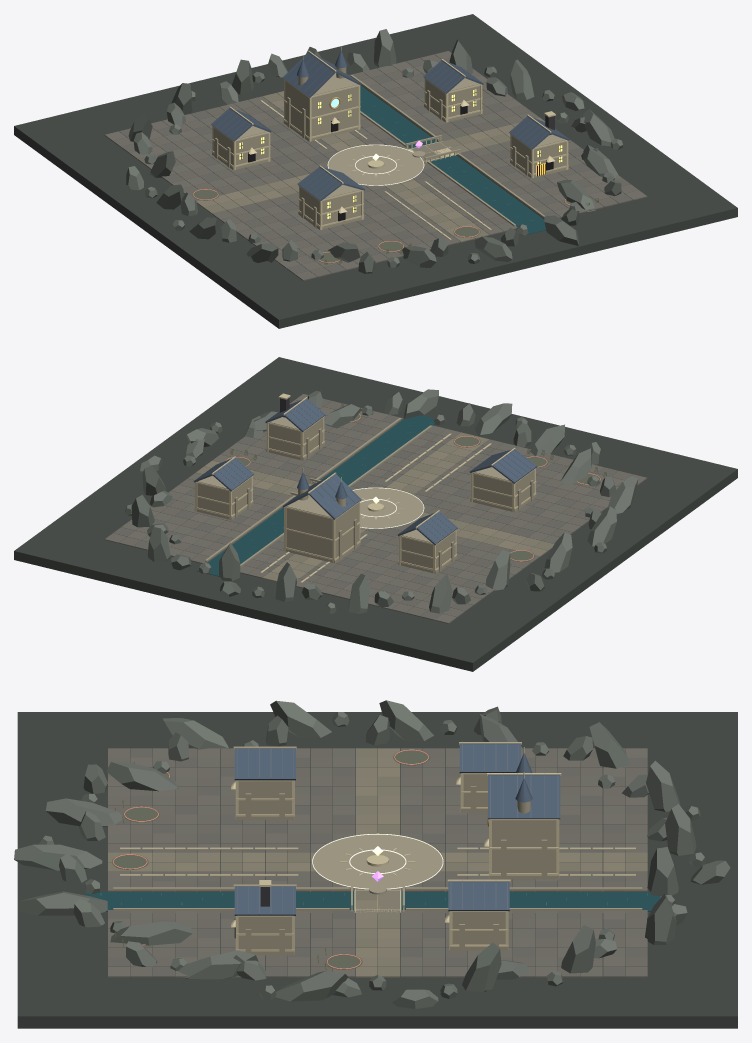
Rendered from dawnveil.glb.
The picture shows the model from 3 angles, top to bottom: view 1: azimuth 30°, elevation 25°; view 2: azimuth 150°, elevation 25°; view 3: azimuth 270°, elevation 25°; orthographic projection. The views are drawn at different scales.
Visible parts, largest first — view 1: Terrain_and_paths_surface (×11), Outskirts_scenery_surface, temple_0_surface (×3), Canal_and_bridge_surface (×2), house_2_surface (×3), house_3_surface (×3), house_1_surface (×3), forge_4_surface (×3), Sanctuary_surface, Monster_farming_clearings_surface; view 2: Terrain_and_paths_surface (×12), Outskirts_scenery_surface, temple_0_surface (×3), Canal_and_bridge_surface (×2), house_2_surface (×3), forge_4_surface (×3), house_3_surface (×3), house_1_surface (×3), Sanctuary_surface, Monster_farming_clearings_surface; view 3: Terrain_and_paths_surface (×12), Outskirts_scenery_surface, Canal_and_bridge_surface (×2), temple_0_surface (×3), Sanctuary_surface (×2), house_2_surface (×3), forge_4_surface (×3), house_3_surface (×3), house_1_surface (×2), Monster_farming_clearings_surface.
Part boxes in pixels (x1,y1,x2,y2): Terrain_and_paths_surface (×11): (14,14,737,328); Outskirts_scenery_surface: (126,29,622,273); temple_0_surface (×3): (282,46,361,141); Canal_and_bridge_surface (×2): (350,75,545,234); house_2_surface (×3): (297,165,364,229); house_3_surface (×3): (423,59,483,122); house_1_surface (×3): (211,106,271,170); forge_4_surface (×3): (509,111,569,178); Sanctuary_surface: (328,145,423,185); Monster_farming_clearings_surface: (192,189,571,263); Terrain_and_paths_surface (×12): (14,357,737,671); Outskirts_scenery_surface: (125,389,638,626); temple_0_surface (×3): (282,468,361,563); Canal_and_bridge_surface (×2): (197,415,435,576); house_2_surface (×3): (469,448,537,512); forge_4_surface (×3): (265,393,325,460); house_3_surface (×3): (193,456,253,519); house_1_surface (×3): (397,510,457,573); Sanctuary_surface: (353,488,423,528); Monster_farming_clearings_surface: (225,413,601,561); Terrain_and_paths_surface (×12): (17,712,737,1028); Outskirts_scenery_surface: (14,700,730,1008); Canal_and_bridge_surface (×2): (85,881,660,912); temple_0_surface (×3): (484,747,561,879); Sanctuary_surface (×2): (312,833,443,889); house_2_surface (×3): (231,746,296,820); forge_4_surface (×3): (231,880,296,955); house_3_surface (×3): (445,879,510,950); house_1_surface (×2): (459,743,520,813); Monster_farming_clearings_surface: (111,749,429,969).
Size of the model in its own units: 64 by 13.78 by 64.33.
